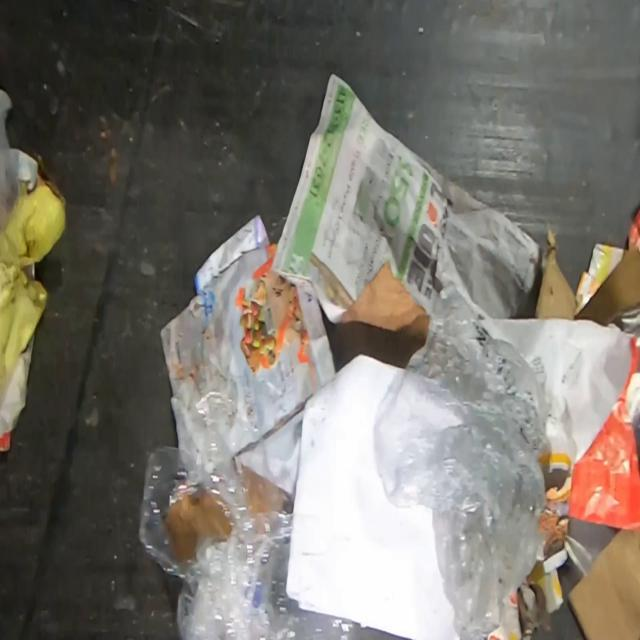cardboard: (329, 260, 428, 372), (567, 528, 640, 640), (574, 236, 640, 336), (534, 222, 577, 321)
soft_plastic: (140, 390, 410, 639), (372, 281, 544, 639)
